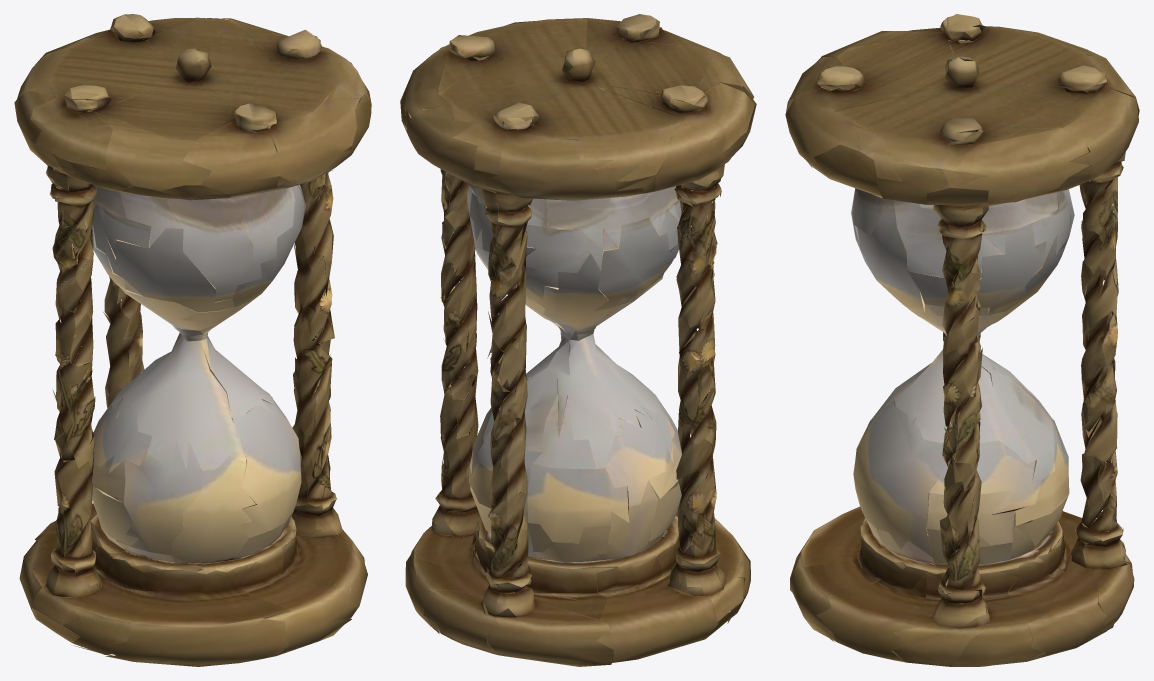
File: hourglass.glb
3 views of the same model, side by side, from view 1: azimuth 30°, elevation 25°; view 2: azimuth 150°, elevation 25°; view 3: azimuth 270°, elevation 25° (orthographic).
Visible parts, largest first — view 1: Mesh_0; view 2: Mesh_0; view 3: Mesh_0.
Part boxes in pixels (x1,y1,x2,y2): Mesh_0: (14,14,371,666); Mesh_0: (400,14,756,666); Mesh_0: (785,14,1139,666).
Bounding box in the file's own units: 0.5261 × 0.9 × 0.5288.
1 material, 1 textured.
